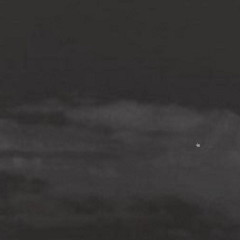Target: (195, 143, 200, 148)
